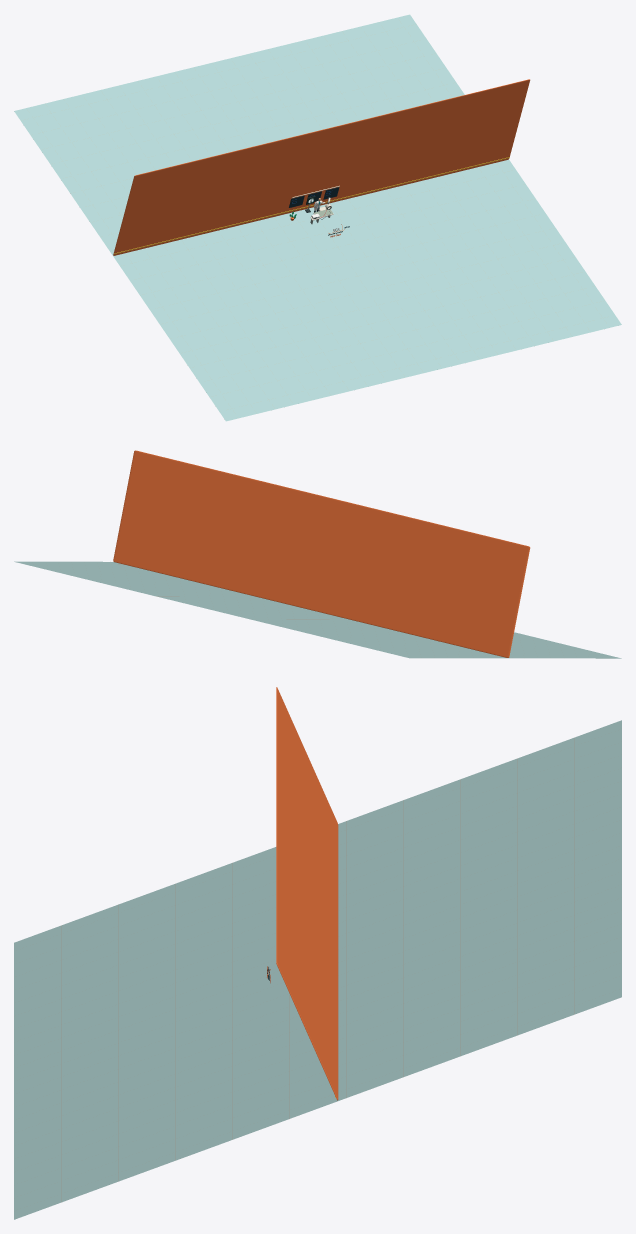
The model's file is sgs.glb.
3 views of the same model, one above another, from view 1: azimuth 30°, elevation 25°; view 2: azimuth 150°, elevation 25°; view 3: azimuth 270°, elevation 25° (orthographic). The views are drawn at different scales.
Parts seen in each view (by area): view 1: Suelo · continuo sgs.001, Fondo · pared sgs.001, Fondo · franja sgs.001; view 2: Fondo · pared sgs.001, Suelo · continuo sgs.001; view 3: Suelo · continuo sgs.001, Fondo · pared sgs.001, Suelo · juntas continuas sgs.001.
Boxes of the visible parts, left/top/right/bottom form: Suelo · continuo sgs.001: left=14, top=14, right=621, bottom=421; Fondo · pared sgs.001: left=113, top=79, right=530, bottom=255; Fondo · franja sgs.001: left=114, top=157, right=509, bottom=254; Fondo · pared sgs.001: left=113, top=450, right=530, bottom=657; Suelo · continuo sgs.001: left=14, top=561, right=621, bottom=658; Suelo · continuo sgs.001: left=14, top=720, right=621, bottom=1219; Fondo · pared sgs.001: left=276, top=687, right=338, bottom=1100; Suelo · juntas continuas sgs.001: left=61, top=738, right=574, bottom=1201.
Size of the model in its own units: 64 by 27.62 by 59.34.
